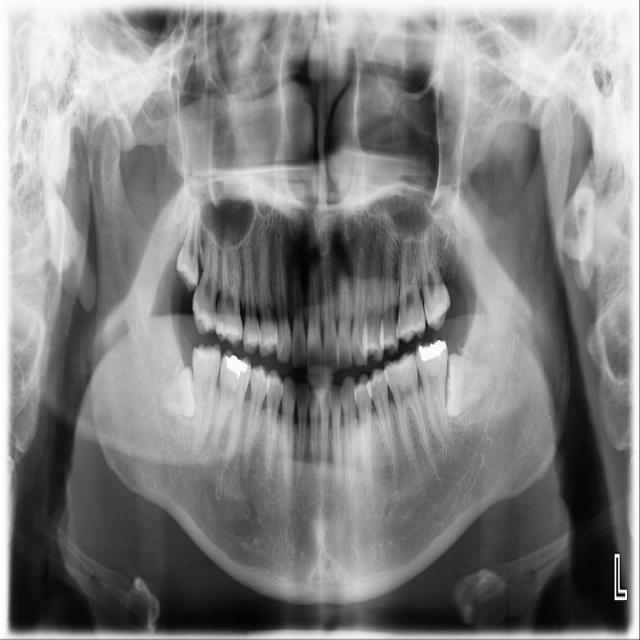Filling: (417, 338, 444, 364), (224, 355, 249, 377)
impacted tooth: (447, 354, 493, 418), (155, 366, 196, 423), (177, 195, 199, 285)
